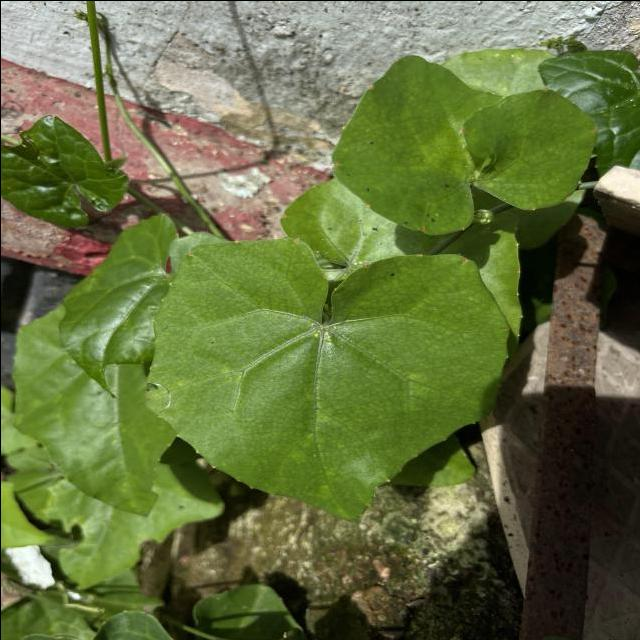Coccinia grandis: (136, 234, 514, 526)
